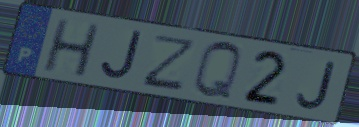2: (241, 49, 290, 110)
H: (39, 17, 103, 80)
J: (98, 28, 144, 83), (294, 60, 338, 112)
Q: (190, 39, 244, 103)
Z: (138, 33, 200, 93)
